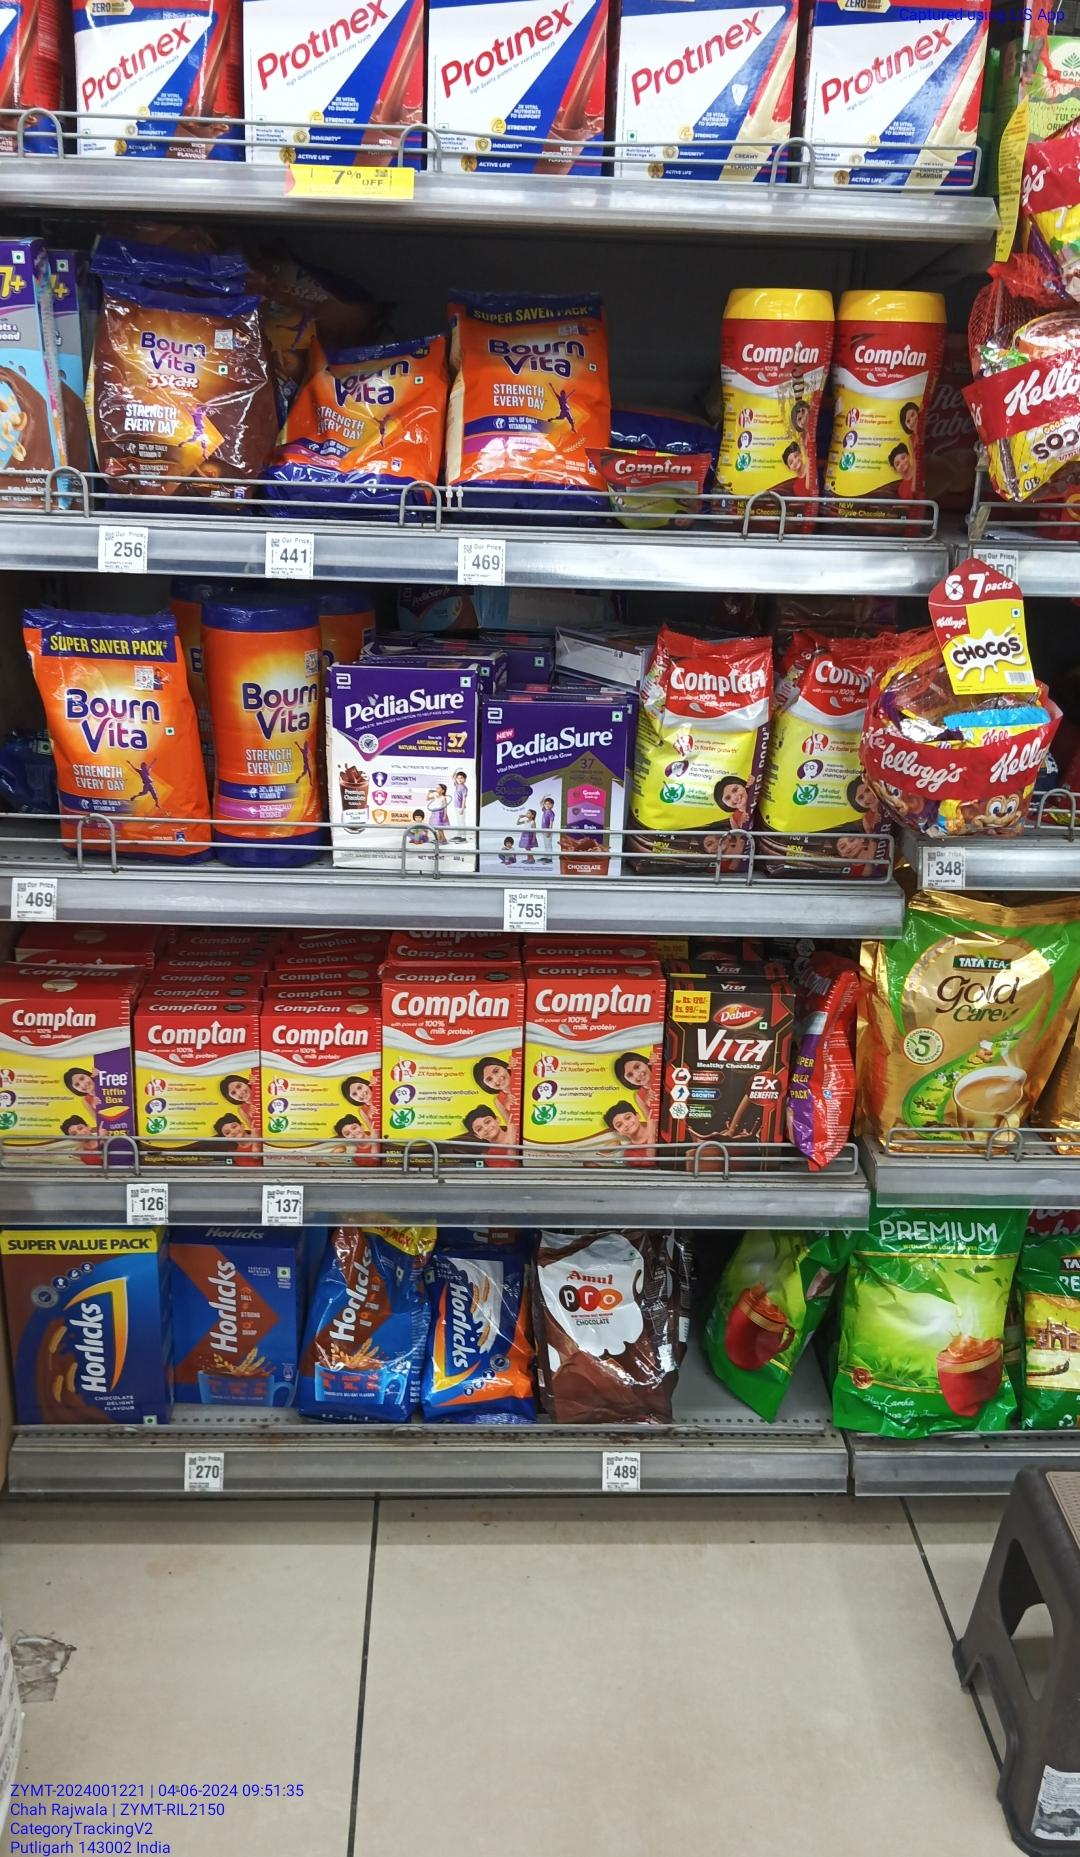BOURN_VITA_FIVE_STAR_MAGIC_500_G_POUCH: (87, 281, 271, 502)
PEDIASURE_CHOCOLATE_500_G_PACK: (483, 699, 621, 879)
PROTINEX_CHOCOLATE_400_G_JAR: (77, 0, 239, 158)
